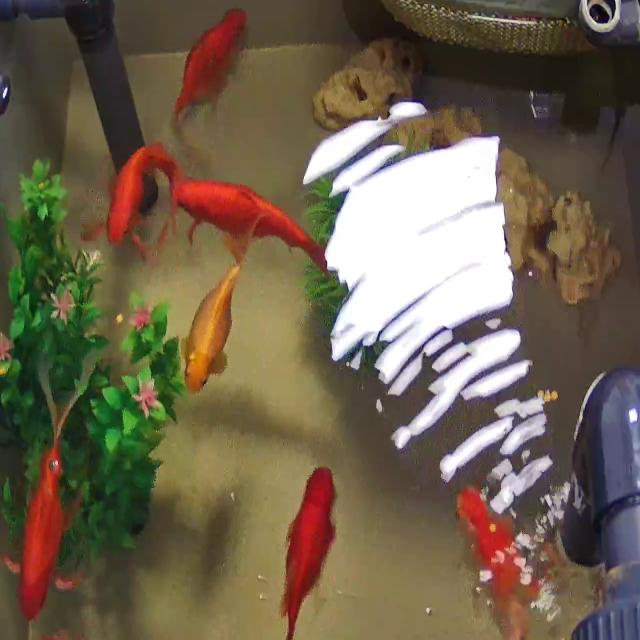fish: (0, 347, 86, 621), (172, 171, 334, 291), (244, 453, 344, 640), (456, 487, 546, 640), (164, 3, 260, 144), (79, 134, 179, 257), (173, 238, 240, 407)
